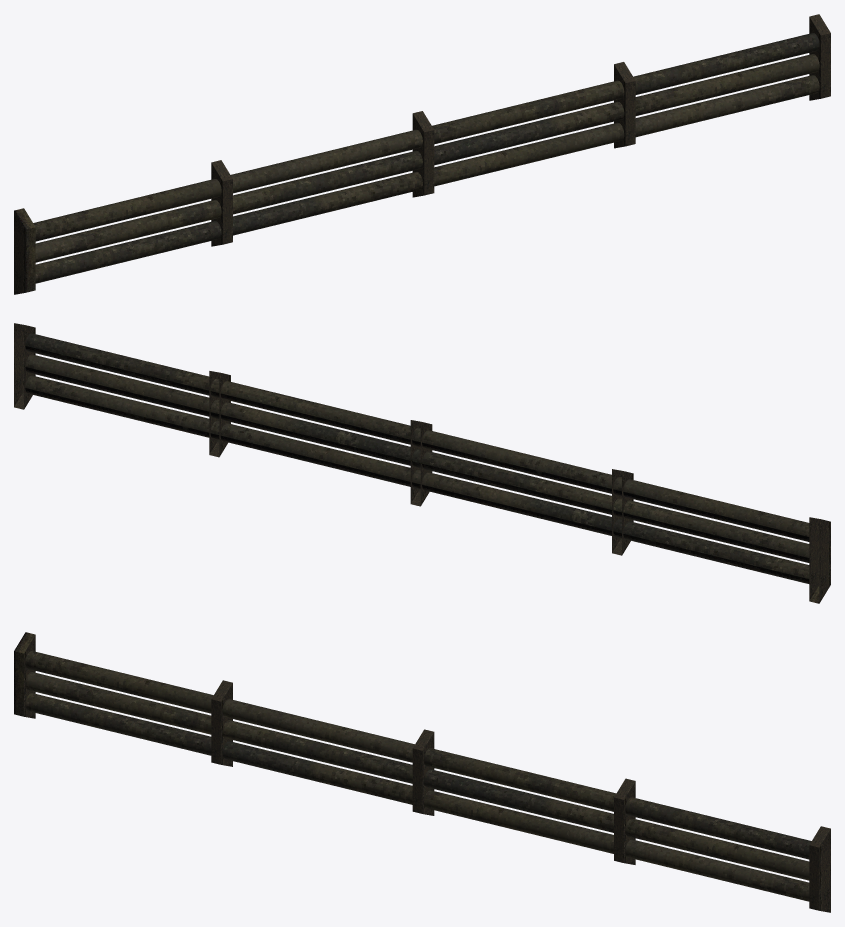
The model's file is pipes_hr_1_horizontal_middle_2.glb.
3 renders of one model, top to bottom at view 1: azimuth 30°, elevation 25°; view 2: azimuth 150°, elevation 25°; view 3: azimuth 330°, elevation 25°, orthographic.
Parts seen in each view (by area): view 1: pipes_hr_1_horizontal_middle_2; view 2: pipes_hr_1_horizontal_middle_2; view 3: pipes_hr_1_horizontal_middle_2.
Part boxes in pixels (x1,y1,x2,y2): pipes_hr_1_horizontal_middle_2: (14, 14, 830, 294); pipes_hr_1_horizontal_middle_2: (14, 323, 830, 603); pipes_hr_1_horizontal_middle_2: (14, 632, 830, 912).
Bounding box in the file's own units: 4 × 0.4 × 0.1.
1 material, 1 textured.
